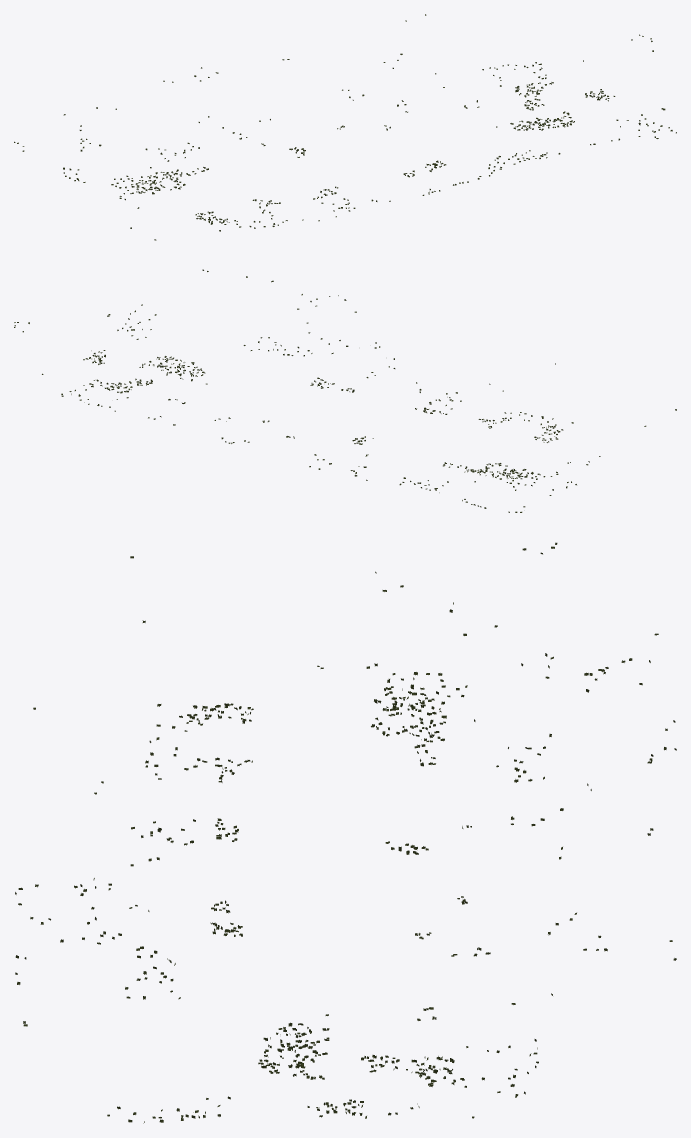
File: SM_Art_Cover_L_HighmooreRoad_GrassDry.gltf
3 renders of one model, top to bottom at view 1: azimuth 30°, elevation 25°; view 2: azimuth 150°, elevation 25°; view 3: azimuth 270°, elevation 25°, orthographic. The views are drawn at different scales.
Parts seen in each view (by area): view 1: SM_Art_Cover_L_HighmooreRoad_GrassDry; view 2: SM_Art_Cover_L_HighmooreRoad_GrassDry; view 3: SM_Art_Cover_L_HighmooreRoad_GrassDry.
Part boxes in pixels (x1,y1,x2,y2): SM_Art_Cover_L_HighmooreRoad_GrassDry: [14, 14, 676, 240]; SM_Art_Cover_L_HighmooreRoad_GrassDry: [14, 269, 676, 512]; SM_Art_Cover_L_HighmooreRoad_GrassDry: [15, 542, 676, 1123].
Bounding box in the file's own units: 298 × 21.96 × 152.
1 material, 1 textured.
